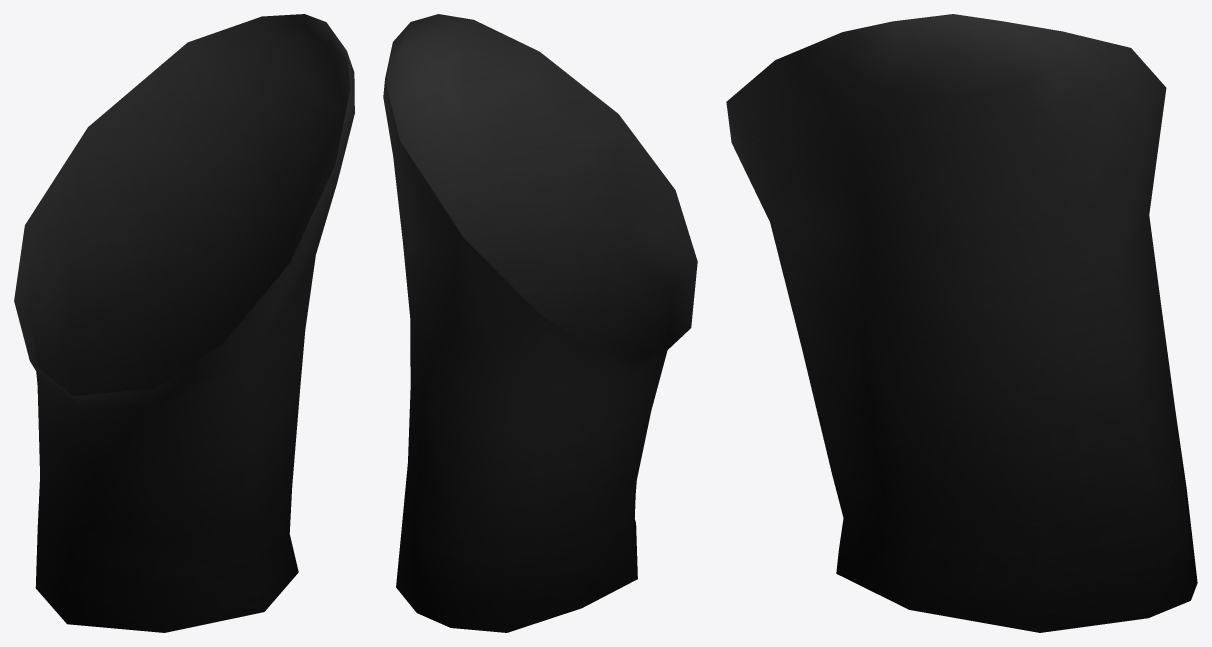
The model's file is armupleft.fbx.
3 views of the same model, side by side, from view 1: azimuth 30°, elevation 25°; view 2: azimuth 150°, elevation 25°; view 3: azimuth 270°, elevation 25° (orthographic). The views are drawn at different scales.
Visible parts, largest first — view 1: armupleft; view 2: armupleft; view 3: armupleft.
Boxes of the visible parts, <box> form: armupleft: <box>14,14,354,632</box>; armupleft: <box>383,14,697,632</box>; armupleft: <box>726,14,1197,632</box>.
Bounding box in the file's own units: 9.42 × 17.35 × 11.23.
